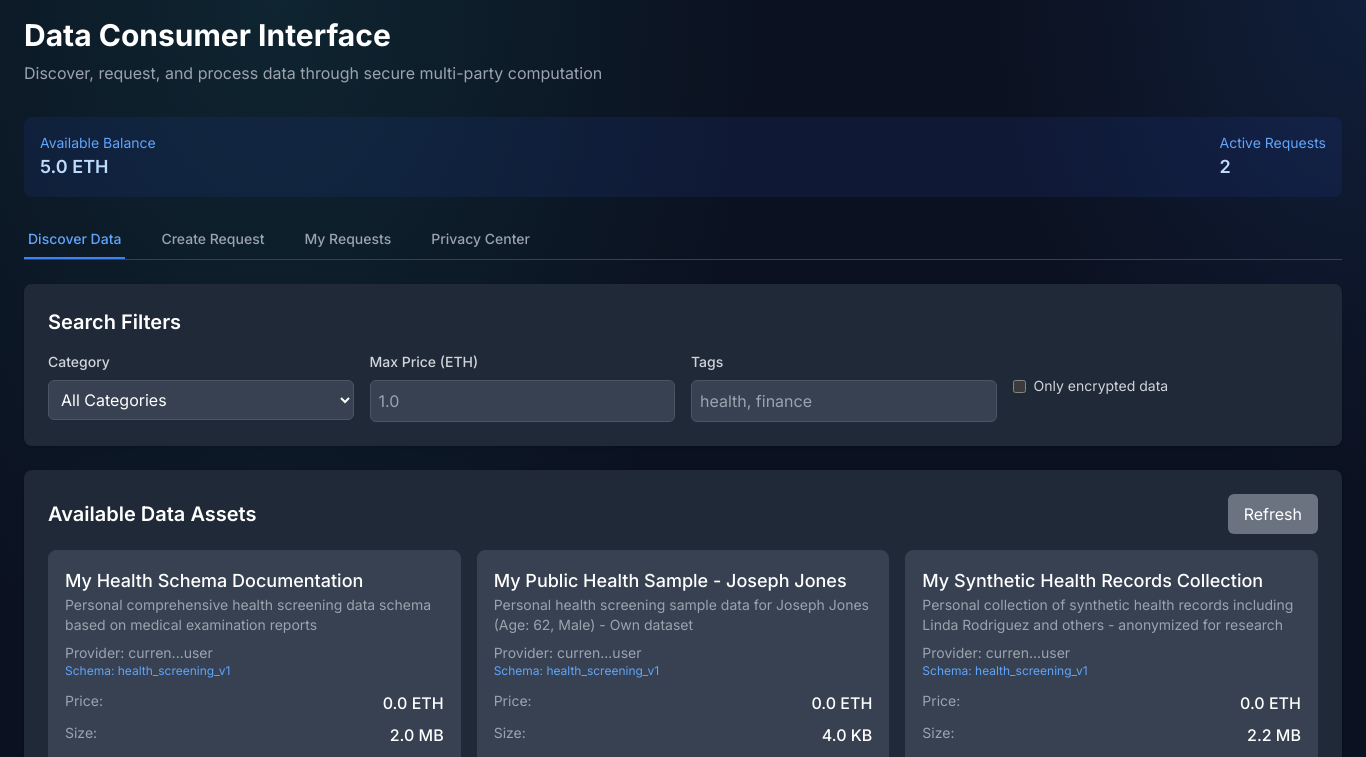
Test: DataConsumerInterface › renders computing request form in create request tab
Switch to Create Request tab
What coordinates should you click on to do the following:
click the button "Create Request"
I would click on:
 (213, 240)
Its box is x1=157 y1=221 x2=268 y2=259.
(page scrolled)
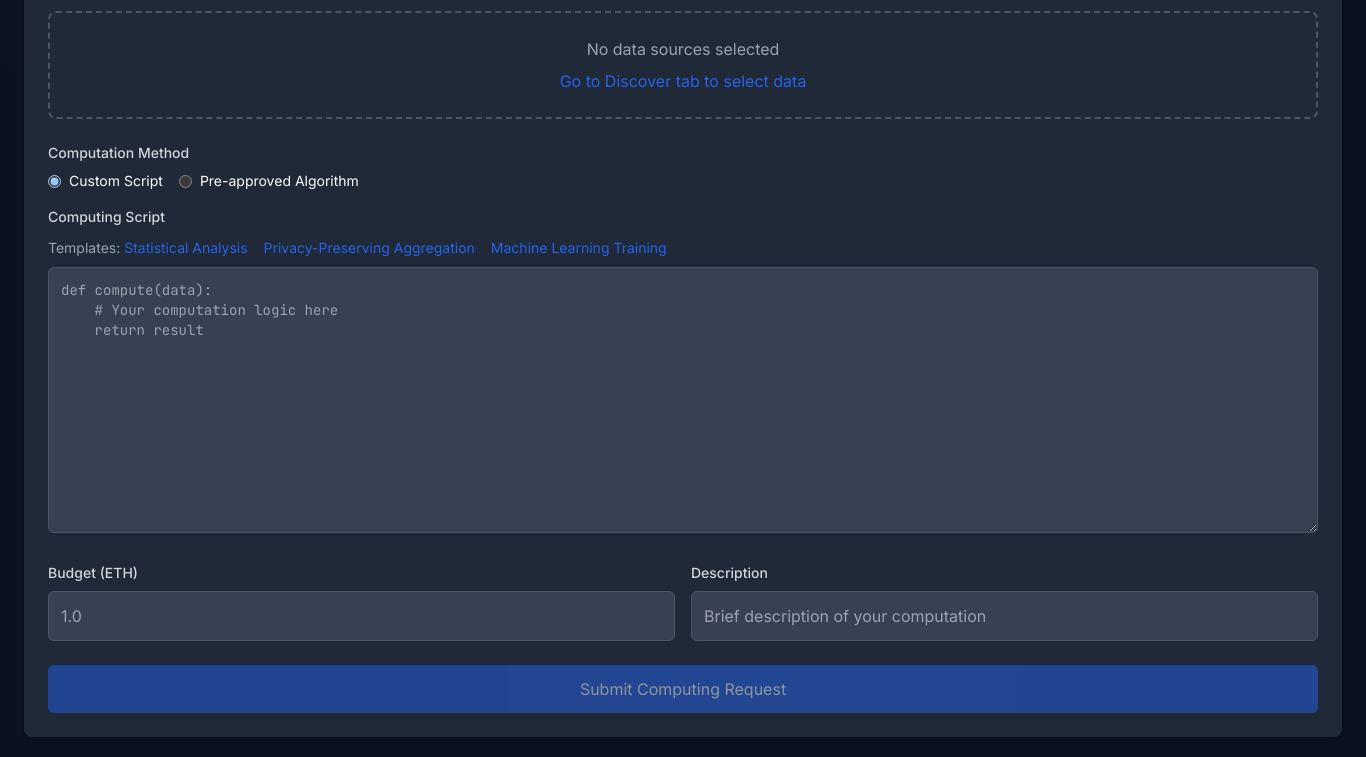
Check: the number field with placeholder "1.0" is shown, box x1=48 y1=591 x2=675 y2=641
Check: the text "Computing Script" is shown, box x1=48 y1=207 x2=165 y2=227
Check: the field with placeholder "Brief description of your computation" is shown, box x1=691 y1=591 x2=1318 y2=641
